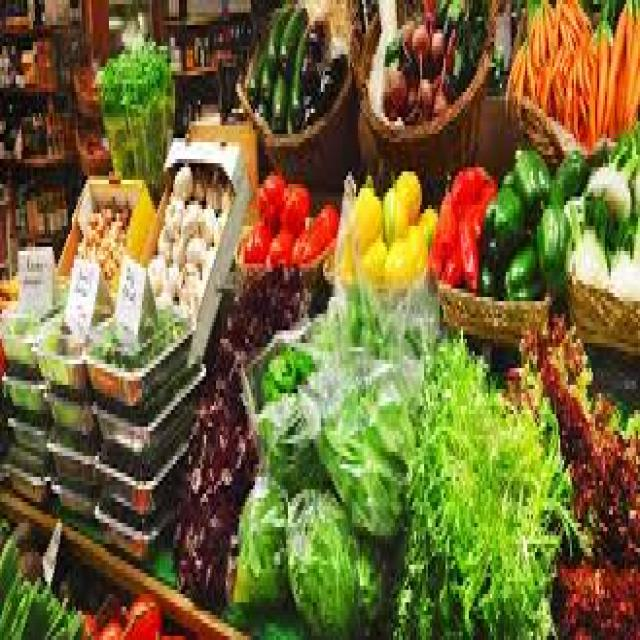organic waste: (393, 330, 584, 636), (502, 306, 638, 556), (173, 402, 239, 606), (0, 535, 78, 636), (554, 556, 638, 636), (327, 406, 385, 510), (580, 134, 638, 222), (212, 276, 304, 326), (307, 523, 352, 623), (98, 50, 170, 109), (366, 360, 410, 452), (531, 197, 566, 301), (78, 594, 163, 636), (578, 192, 638, 251), (558, 33, 592, 134), (238, 502, 274, 594), (484, 180, 524, 259), (566, 222, 611, 288), (500, 238, 543, 306), (509, 142, 548, 209), (454, 201, 481, 293), (208, 335, 239, 414), (605, 4, 624, 126), (449, 159, 494, 209), (278, 4, 308, 75), (607, 238, 638, 306), (286, 17, 307, 117), (264, 4, 290, 84), (350, 180, 381, 247), (533, 63, 570, 117), (526, 0, 554, 71), (506, 37, 535, 104), (554, 0, 589, 54), (456, 8, 484, 71), (317, 46, 344, 105), (383, 230, 409, 289), (597, 4, 609, 130), (550, 150, 582, 197), (436, 180, 455, 259), (404, 71, 434, 121), (257, 167, 282, 226), (395, 163, 416, 230), (381, 63, 407, 117), (247, 29, 265, 105), (282, 176, 309, 226), (405, 226, 428, 284), (379, 184, 403, 238), (360, 234, 383, 289), (623, 8, 634, 122), (588, 29, 599, 142), (408, 17, 428, 75), (346, 305, 376, 343), (264, 226, 294, 263), (560, 192, 584, 238), (163, 264, 185, 314), (267, 67, 284, 130), (292, 222, 317, 264), (305, 4, 327, 50), (159, 196, 181, 238), (338, 234, 358, 280), (243, 226, 270, 259), (432, 67, 455, 105), (298, 50, 315, 100), (421, 0, 486, 13), (169, 163, 191, 201), (630, 17, 638, 121), (416, 201, 434, 247), (479, 251, 498, 293), (154, 218, 173, 260), (179, 201, 196, 247), (142, 255, 160, 297), (261, 50, 272, 113), (259, 372, 282, 402), (397, 17, 412, 62), (292, 343, 309, 381), (167, 234, 183, 272), (317, 201, 333, 238), (204, 172, 220, 209), (428, 25, 442, 67), (300, 96, 317, 130), (103, 201, 125, 226), (183, 234, 198, 268), (200, 238, 214, 272), (200, 205, 212, 243), (191, 171, 204, 201), (101, 238, 115, 264), (187, 263, 198, 293), (86, 201, 101, 217), (84, 222, 97, 234), (220, 184, 226, 205), (212, 213, 218, 234)
